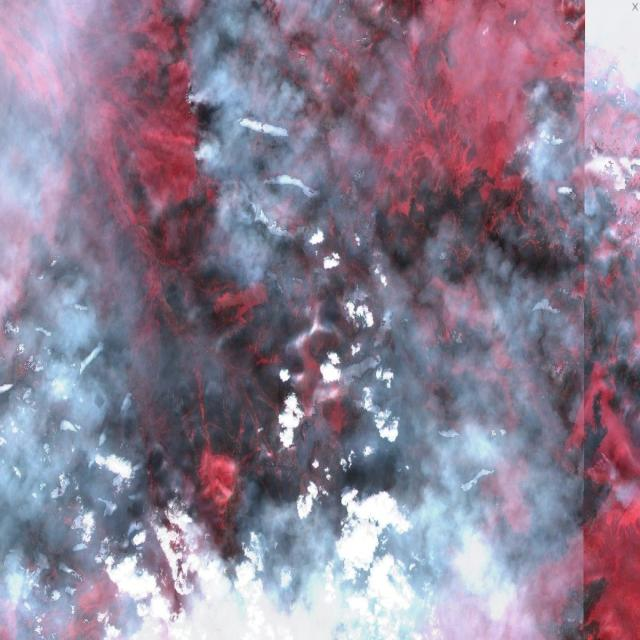fire: (136, 468, 206, 573), (178, 62, 219, 180)
